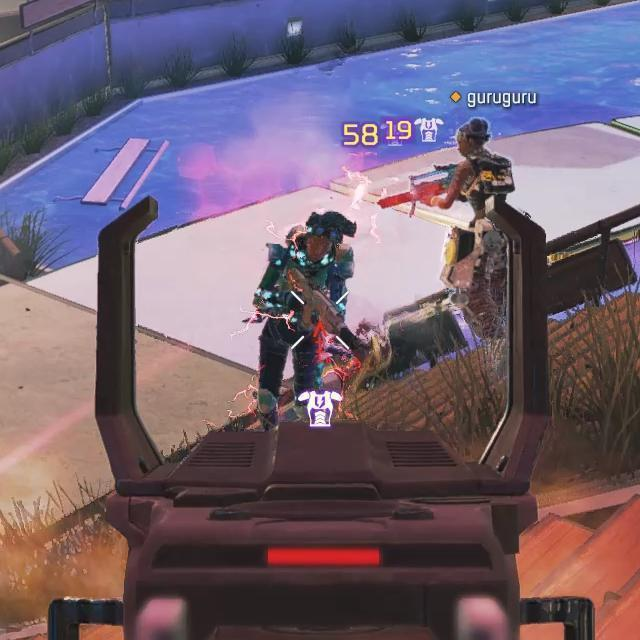avatar: (247, 207, 359, 431), (436, 115, 518, 341)
